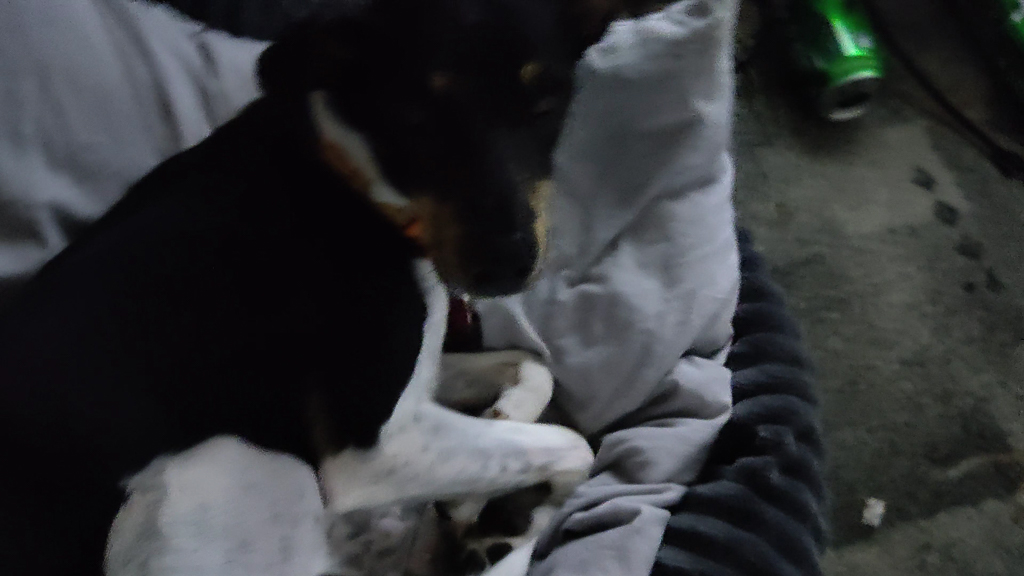Dog: (0, 0, 639, 576)
